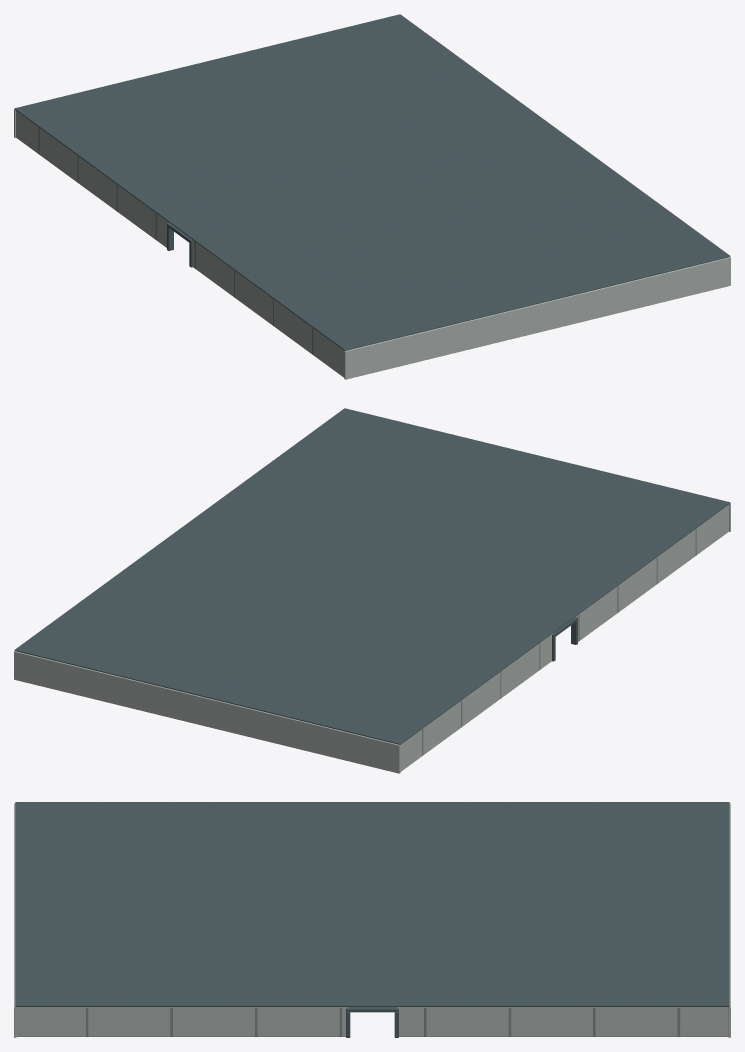
File: D03_directory_06_runtime_names001.glb
3 views of the same model, one above another, from view 1: azimuth 30°, elevation 25°; view 2: azimuth 150°, elevation 25°; view 3: azimuth 270°, elevation 25° (orthographic). The views are drawn at different scales.
Parts seen in each view (by area): view 1: D03_directory_06_N00016, D03_directory_06_N00015, D03_directory_06_N00000, D03_directory_06_N00001; view 2: D03_directory_06_N00016, D03_directory_06_N00014, D03_directory_06_N00001, D03_directory_06_N00000; view 3: D03_directory_06_N00016, D03_directory_06_N00007, D03_directory_06_N00008, D03_directory_06_N00014, D03_directory_06_N00015.
Boxes of the visible parts, bbox=[...] form: D03_directory_06_N00016: bbox=[14, 14, 730, 350]; D03_directory_06_N00015: bbox=[344, 257, 730, 379]; D03_directory_06_N00000: bbox=[16, 110, 169, 247]; D03_directory_06_N00001: bbox=[192, 239, 344, 377]; D03_directory_06_N00016: bbox=[14, 408, 730, 744]; D03_directory_06_N00014: bbox=[14, 651, 400, 773]; D03_directory_06_N00001: bbox=[575, 504, 728, 641]; D03_directory_06_N00000: bbox=[400, 633, 552, 771]; D03_directory_06_N00016: bbox=[15, 802, 729, 1006]; D03_directory_06_N00007: bbox=[396, 1007, 728, 1036]; D03_directory_06_N00008: bbox=[16, 1007, 348, 1036]; D03_directory_06_N00014: bbox=[728, 803, 730, 1037]; D03_directory_06_N00015: bbox=[14, 803, 16, 1037].
Bounding box in the file's own units: 45.75 × 3.34 × 67.84.
11 materials, 11 textured.
